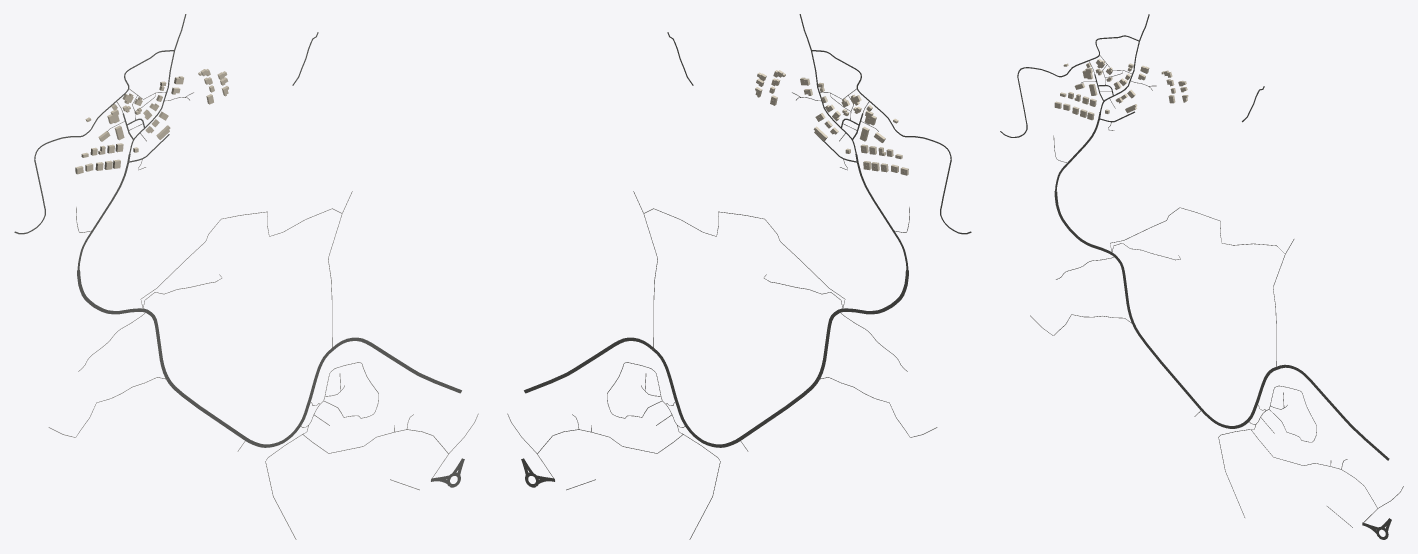
Rendered from historic-palestine-09_22_3510_3160.glb.
3 renders of one model, left to right at view 1: azimuth 30°, elevation 25°; view 2: azimuth 150°, elevation 25°; view 3: azimuth 330°, elevation 25°, orthographic. The views are drawn at different scales.
Visible parts, largest first — view 1: Road 3515, Road 3515.001; view 2: Road 3515, Road 3515.001; view 3: Road 3515, Road 3515.001.
Boxes of the visible parts, left/top/right/bottom form: Road 3515: left=77, top=270, right=300, bottom=447; Road 3515.001: left=298, top=337, right=461, bottom=425; Road 3515: left=685, top=270, right=908, bottom=447; Road 3515.001: left=524, top=337, right=687, bottom=425; Road 3515: left=1054, top=191, right=1248, bottom=428; Road 3515.001: left=1247, top=364, right=1389, bottom=460.
Size of the model in its own units: 1152 by 1311 by 8.7.
